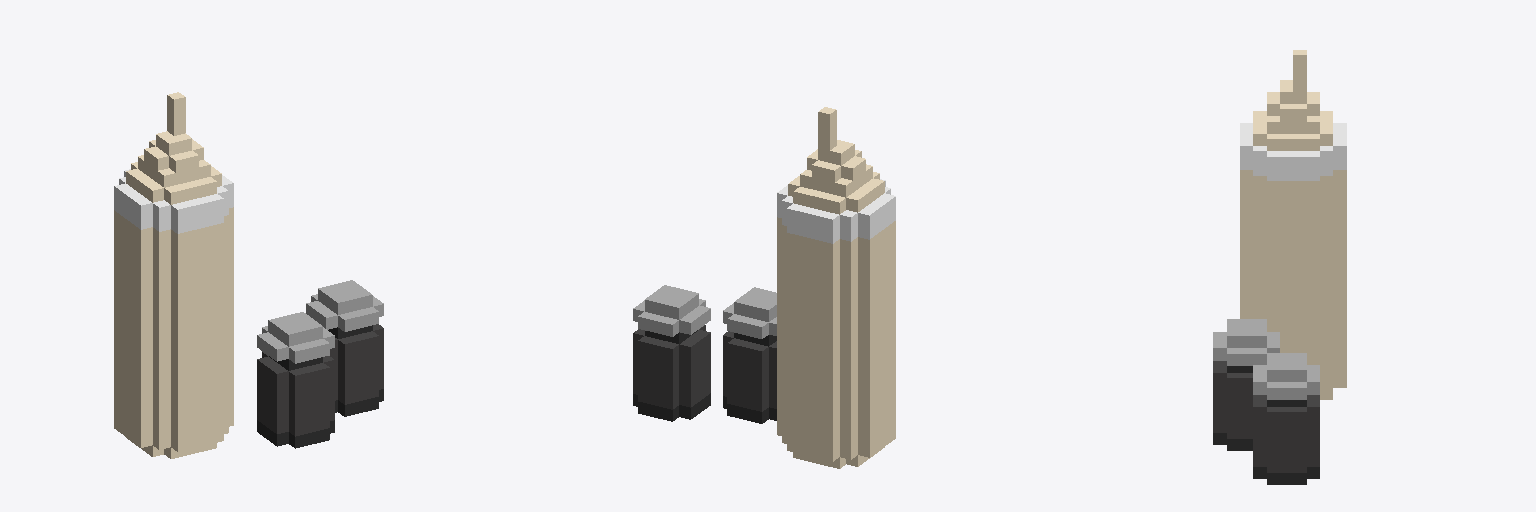
3 views of the same model, side by side, from view 1: azimuth 30°, elevation 25°; view 2: azimuth 150°, elevation 25°; view 3: azimuth 270°, elevation 25° (orthographic).
Parts seen in each view (by area): view 1: object 1; view 2: object 1; view 3: object 1.
Boxes of the visible parts, x1=… form: object 1: x1=114, y1=92, x2=383, y2=458; object 1: x1=633, y1=107, x2=895, y2=468; object 1: x1=1213, y1=50, x2=1346, y2=484.
Size of the model in its own units: 2.1 by 2.8 by 1.
1 materials, 1 textured.